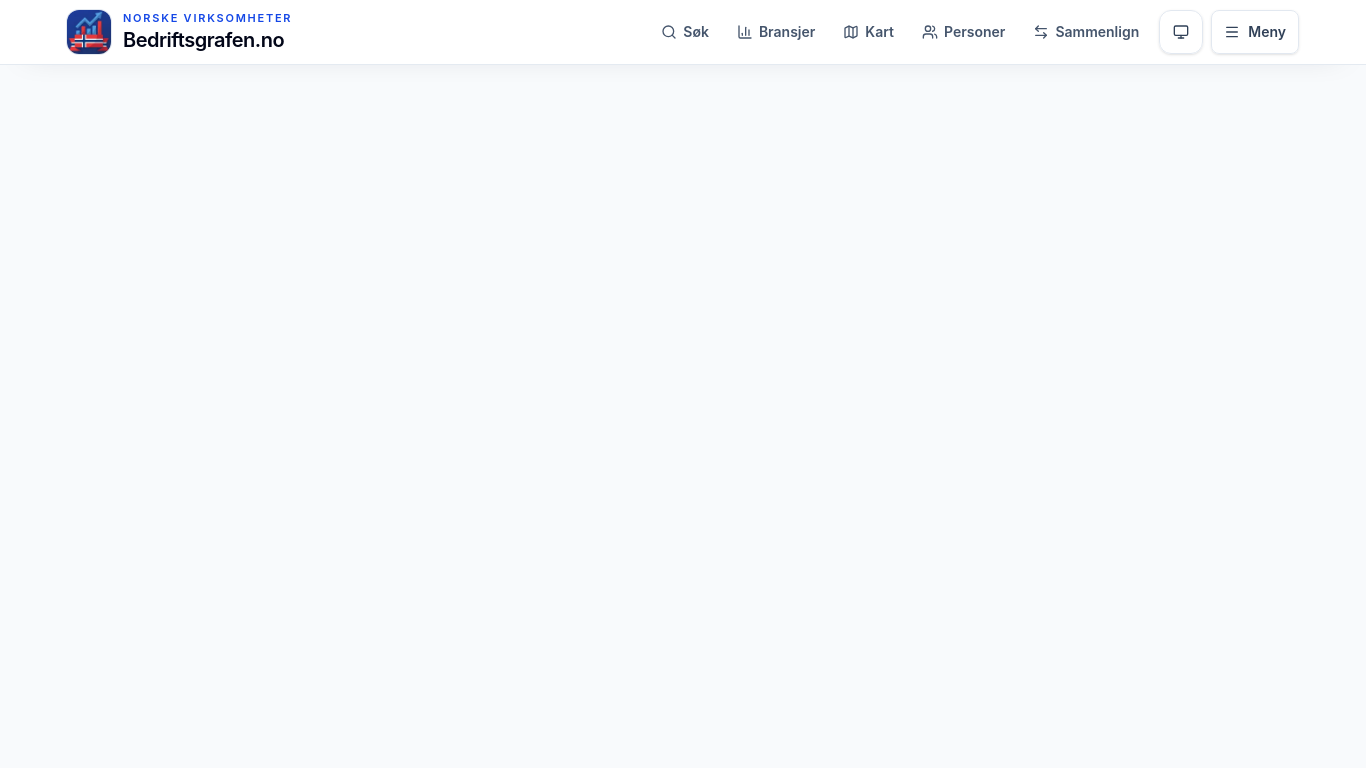
Header › closes the quick menu when the route changes
Click the button with aria-label "Åpne meny": (1255, 32) left=1211, top=10, right=1299, bottom=54
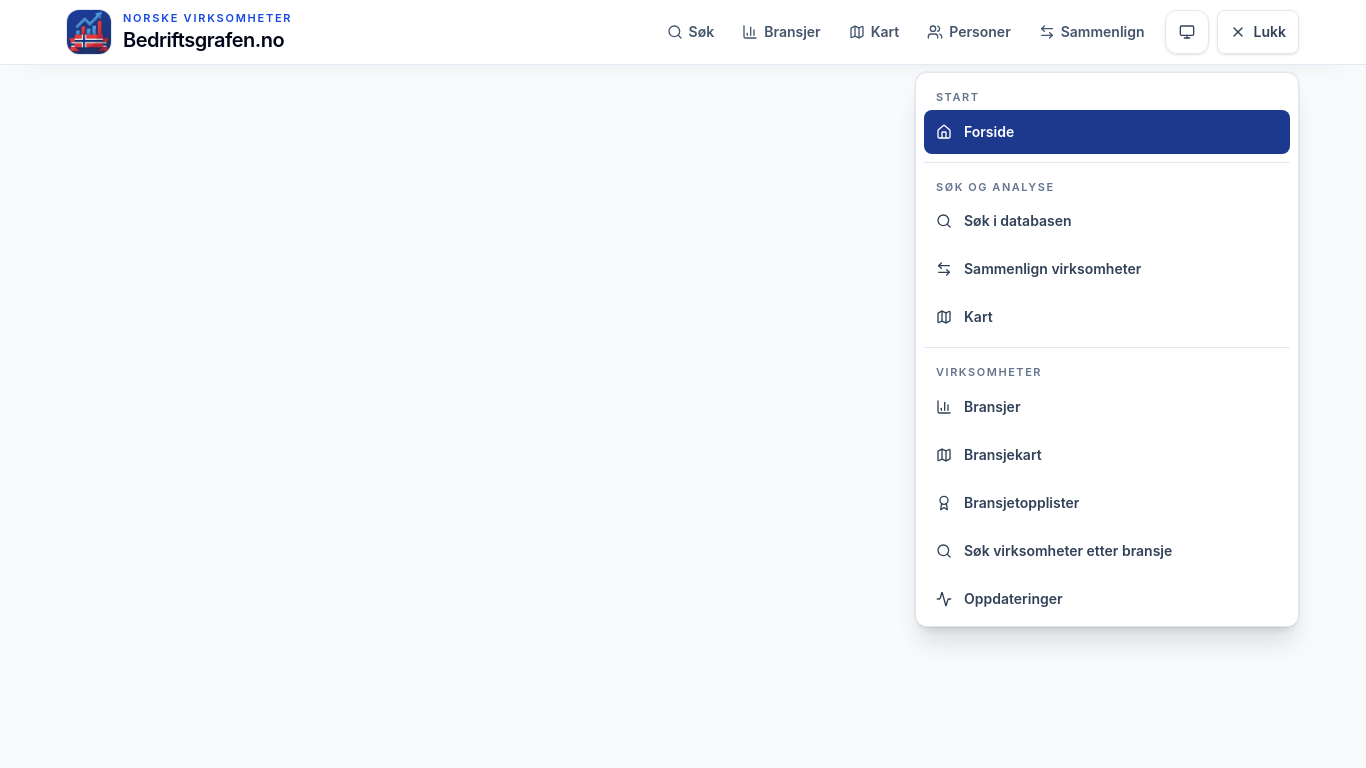
Now the navigation bar named "Hurtigmeny" is shown, box left=916, top=73, right=1298, bottom=626
